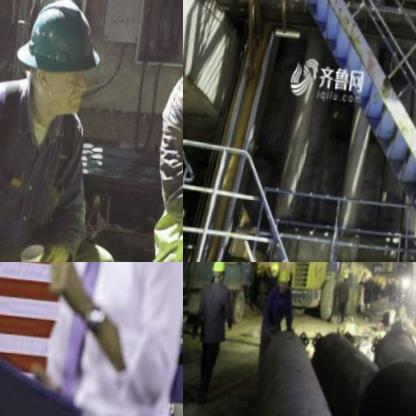helmet: (8, 0, 119, 124), (279, 266, 296, 295), (213, 262, 230, 285)
